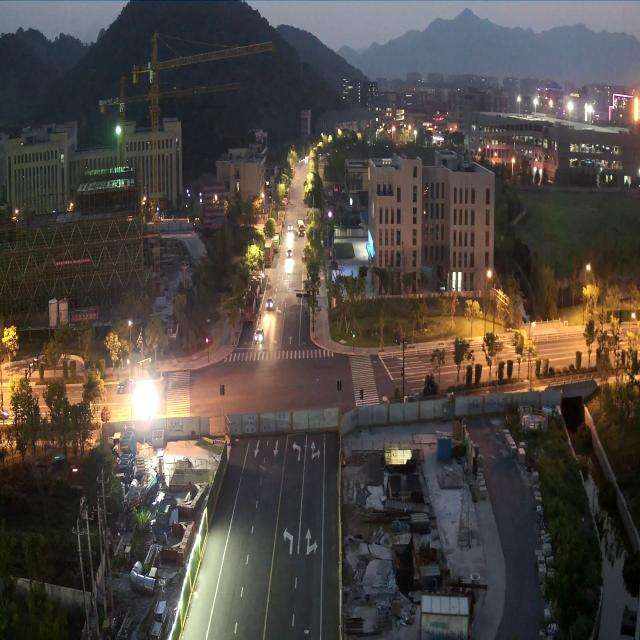UAV: (35, 448, 79, 478)
